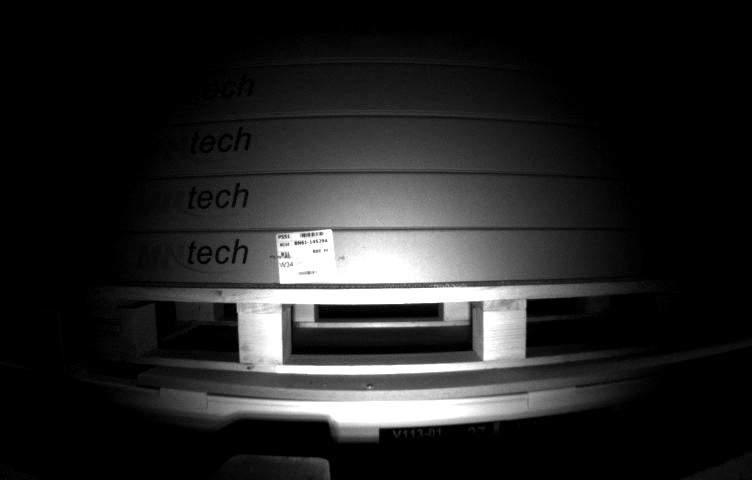True Barcode: (273, 229, 339, 283)
